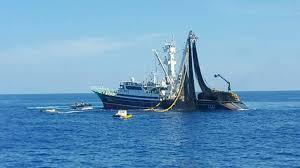Ship: (83, 30, 203, 120)
